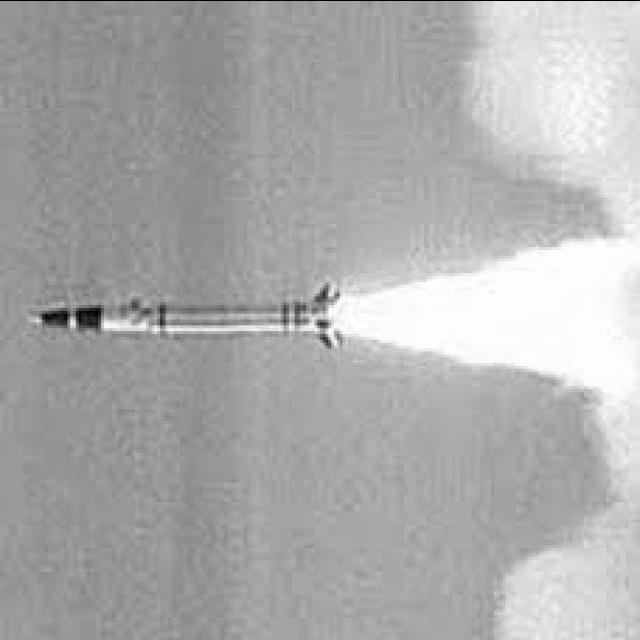Missile: (19, 298, 337, 339)
